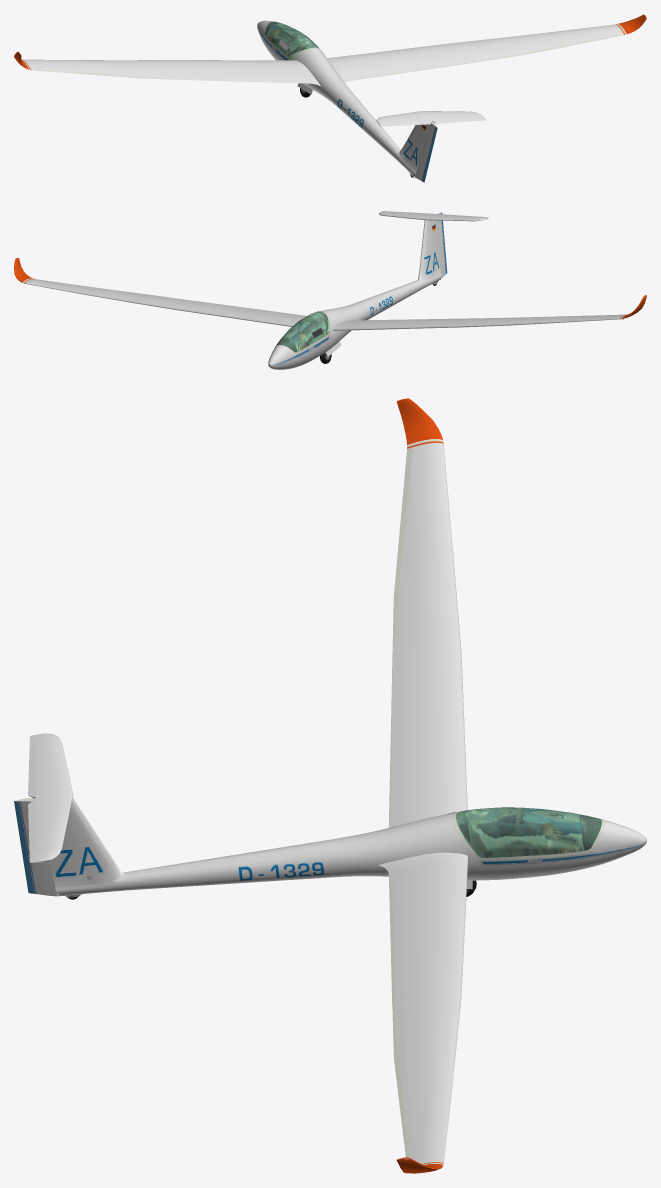
Rendered from LS7_stat.gltf.
The picture shows the model from 3 angles, top to bottom: view 1: azimuth 30°, elevation 25°; view 2: azimuth 150°, elevation 25°; view 3: azimuth 270°, elevation 25°; orthographic projection. The views are drawn at different scales.
Visible parts, largest first — view 1: node1, node10, node13; view 2: node1, node10, node13; view 3: node1, node10, node13.
Boxes of the visible parts, x1,y1,x2,y2 form: node1: (14,14,646,86); node10: (257,20,485,182); node13: (265,21,319,58); node1: (14,258,646,330); node10: (268,211,623,369); node13: (275,311,330,352); node1: (378,398,468,1173); node10: (14,733,646,896); node13: (456,807,601,857).
Size of the model in its own units: 14.74 by 2.95 by 7.15.
